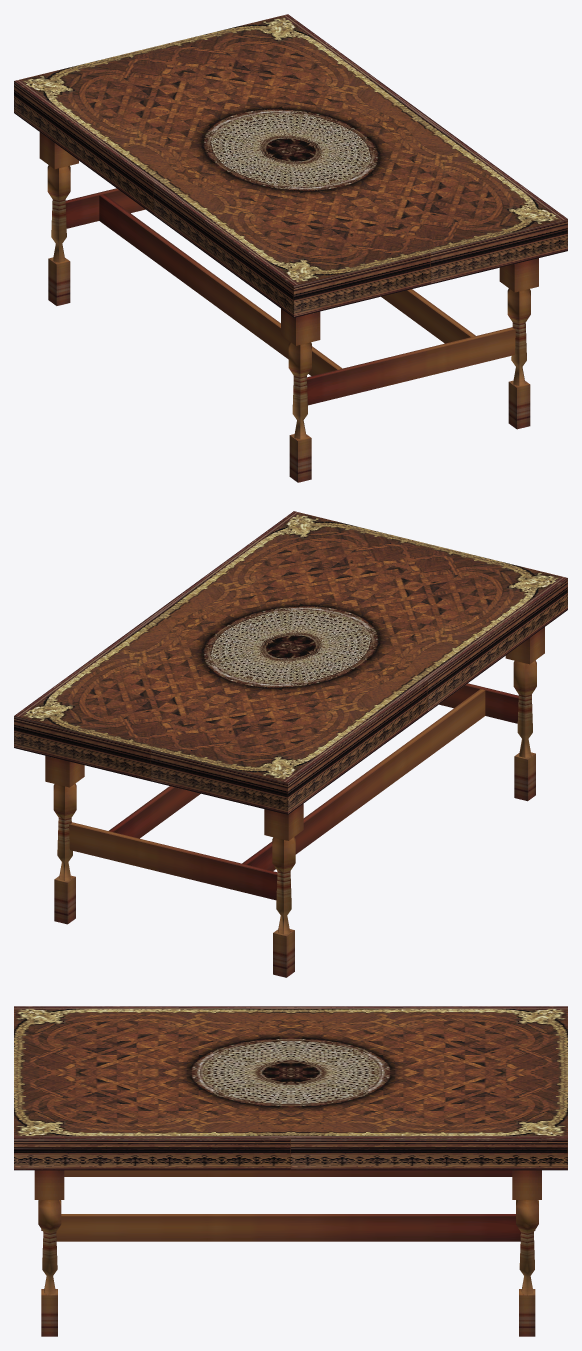
The model's file is Table04.glb.
The picture shows the model from 3 angles, top to bottom: view 1: azimuth 30°, elevation 25°; view 2: azimuth 150°, elevation 25°; view 3: azimuth 270°, elevation 25°; orthographic projection.
Visible parts, largest first — view 1: _Table04; view 2: _Table04; view 3: _Table04.
Boxes of the visible parts, box(x1,y1,x2,y2) form: _Table04: box(14, 14, 567, 482); _Table04: box(14, 511, 567, 977); _Table04: box(14, 1006, 567, 1336).
Bounding box in the file's own units: 1.38 × 1.02 × 2.44.
Materials: 1 (1 with a texture image).
